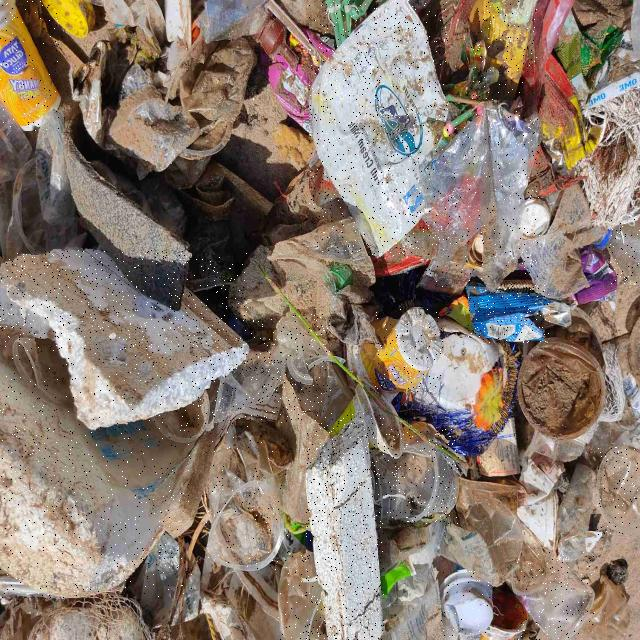paper: (309, 1, 448, 255)
plastic: (421, 108, 540, 288), (210, 314, 331, 424), (207, 422, 288, 572), (373, 429, 459, 523), (0, 1, 59, 130), (518, 552, 595, 640), (471, 1, 538, 100), (375, 308, 443, 392), (278, 550, 328, 640), (598, 446, 639, 535), (441, 571, 494, 636), (609, 219, 640, 284)
styrofoam: (0, 350, 192, 598), (0, 250, 248, 428), (306, 413, 384, 640)
wrapper: (469, 285, 552, 342)
